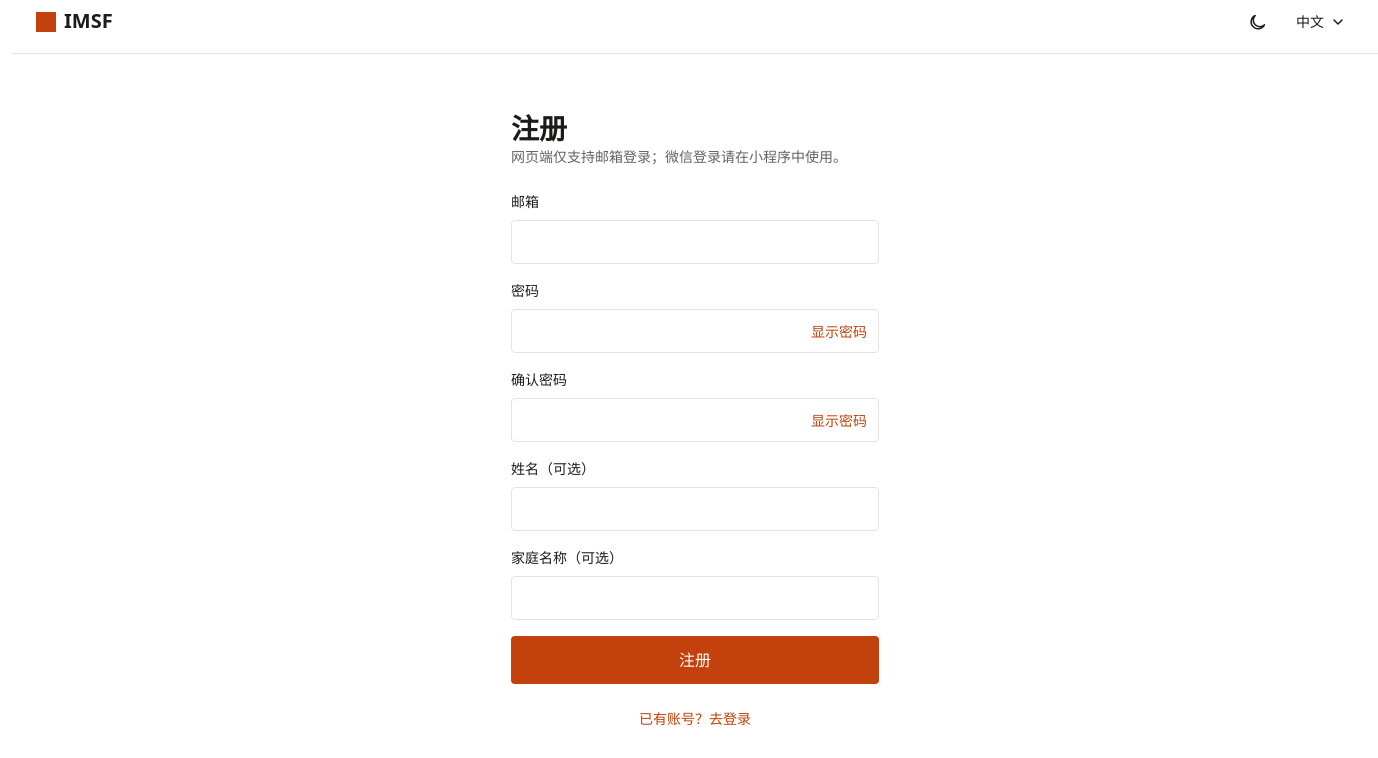
Test: success › navigates to /app on success and sends the name but never the confirm password
The image size is (1378, 758).
Type "a@b.c" into the field labelled "邮箱" at (695, 242), box [511,220,879,264]
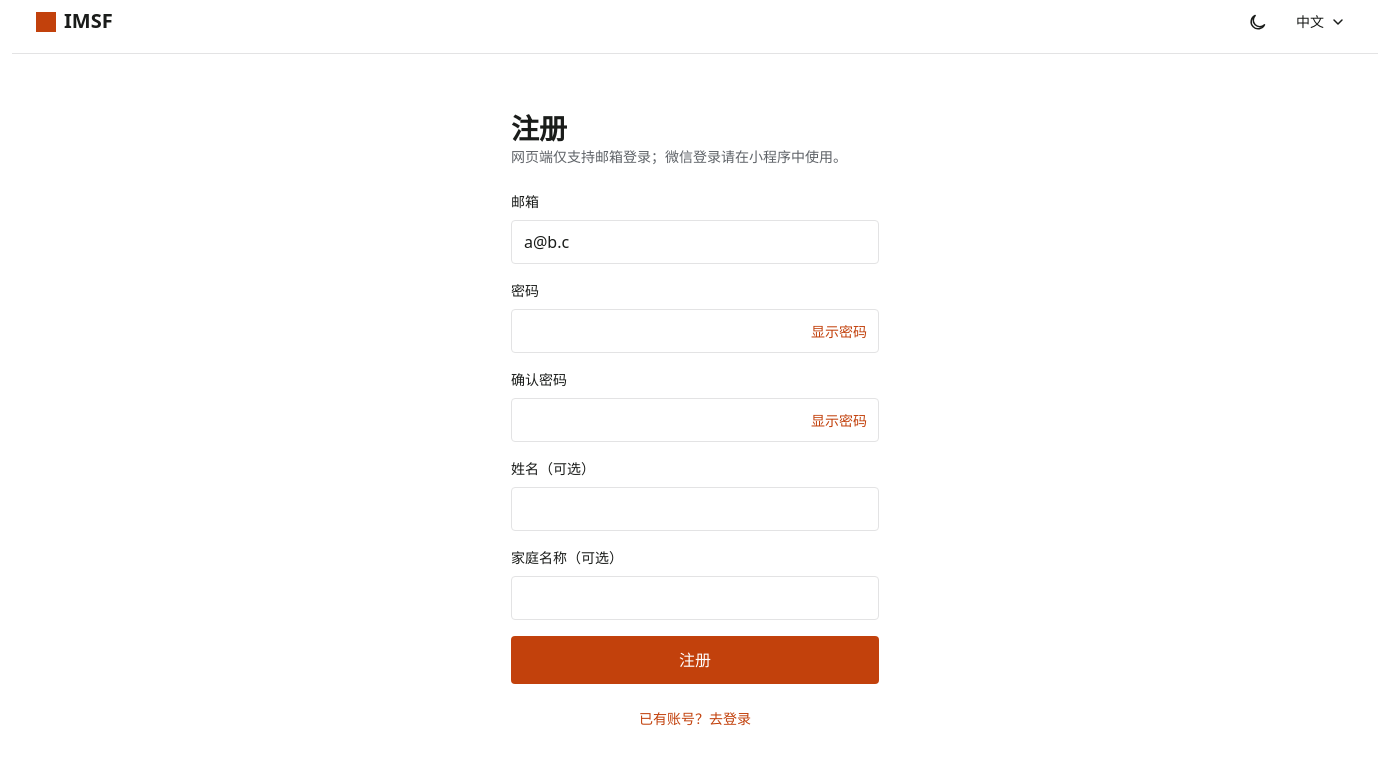
Type "longenough" into the password field labelled "密码" at (695, 331), box [511,309,879,353]
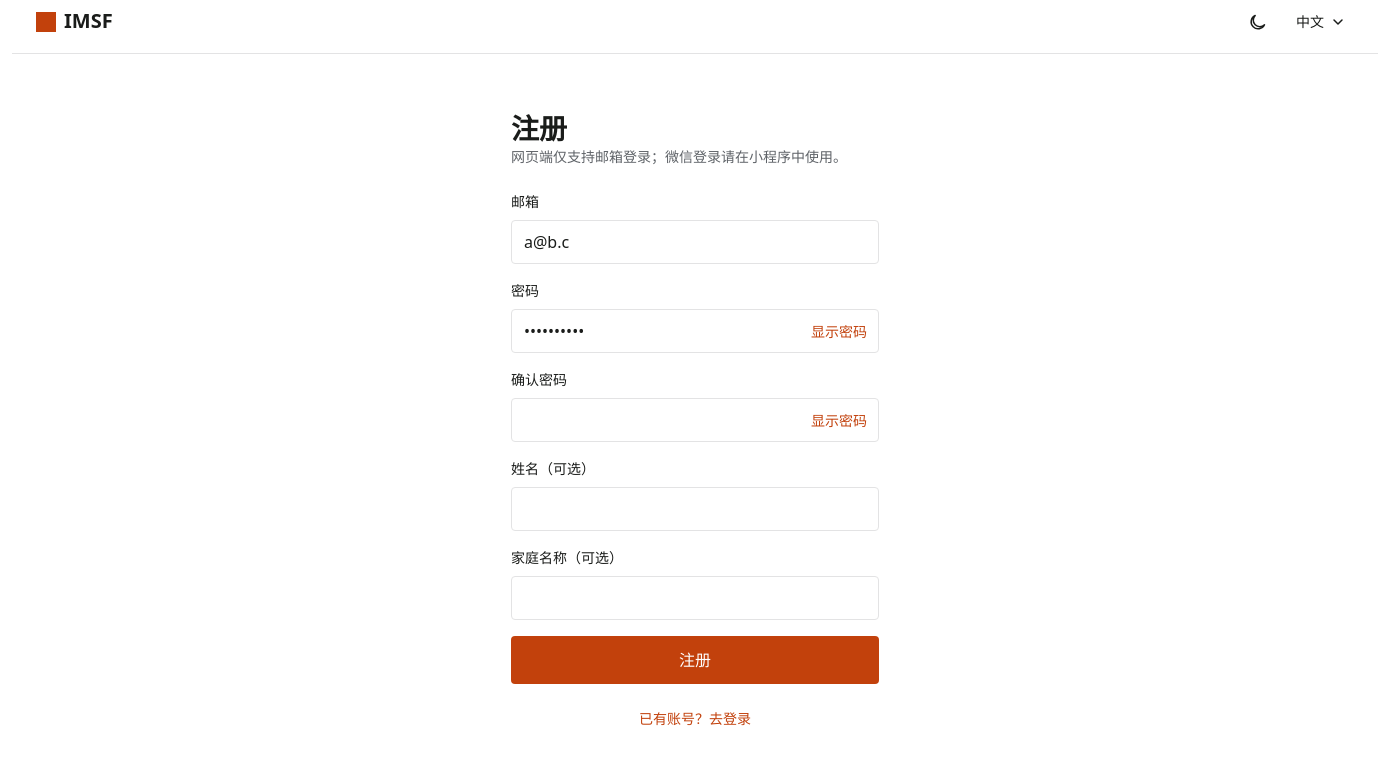
Type "longenough" into the password field labelled "确认密码" at (695, 420), box [511,398,879,442]
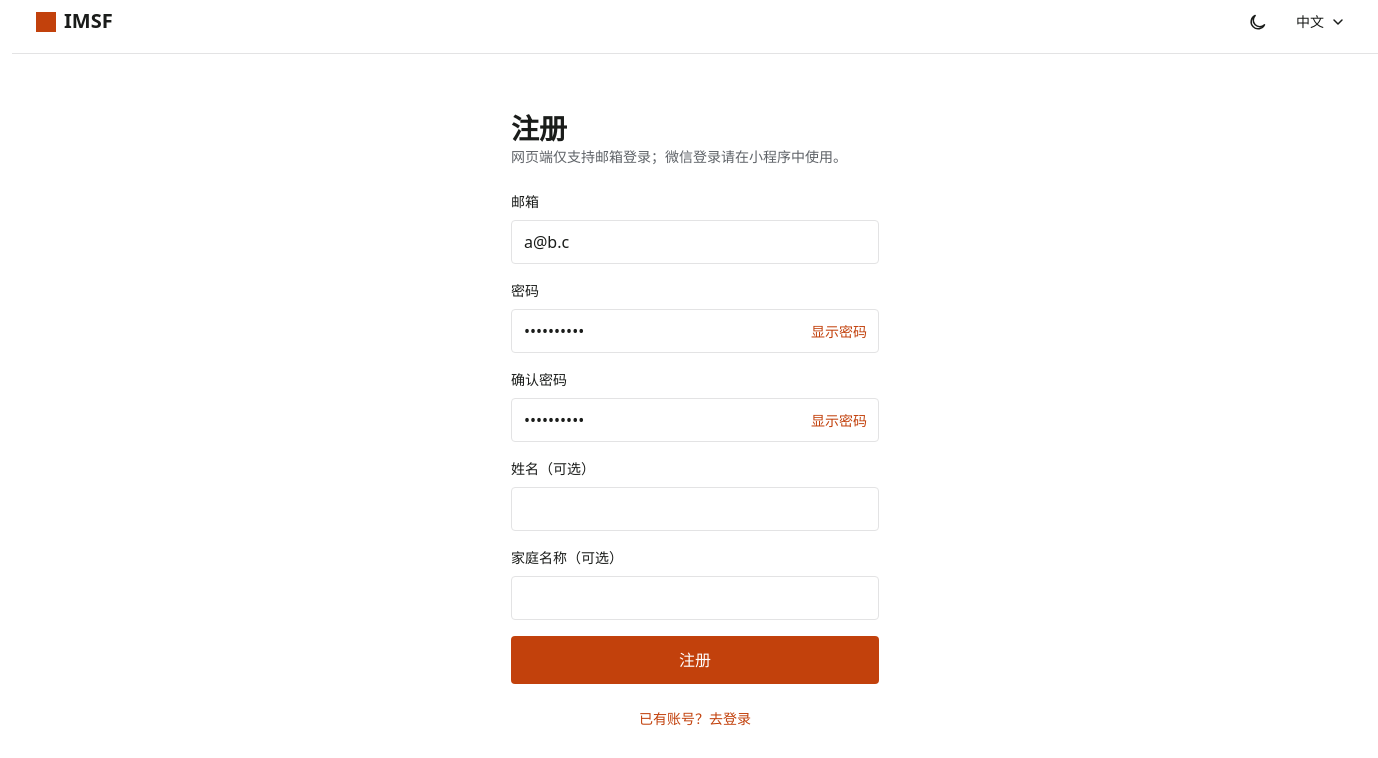
Type "小明" into the field labelled "姓名（可选）" at (695, 509), box [511,487,879,531]
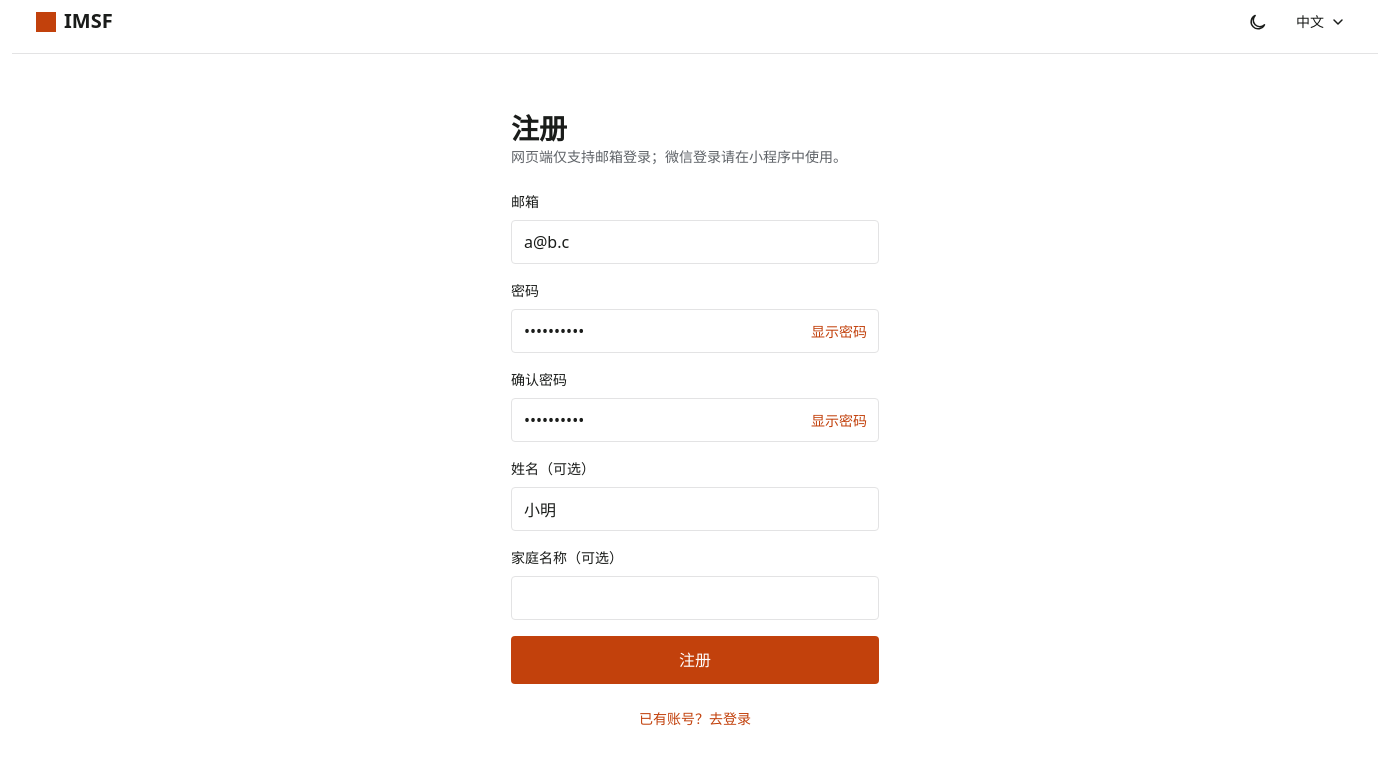
Click the button "注册" at (695, 660), box [511,636,879,684]
(page scrolled)
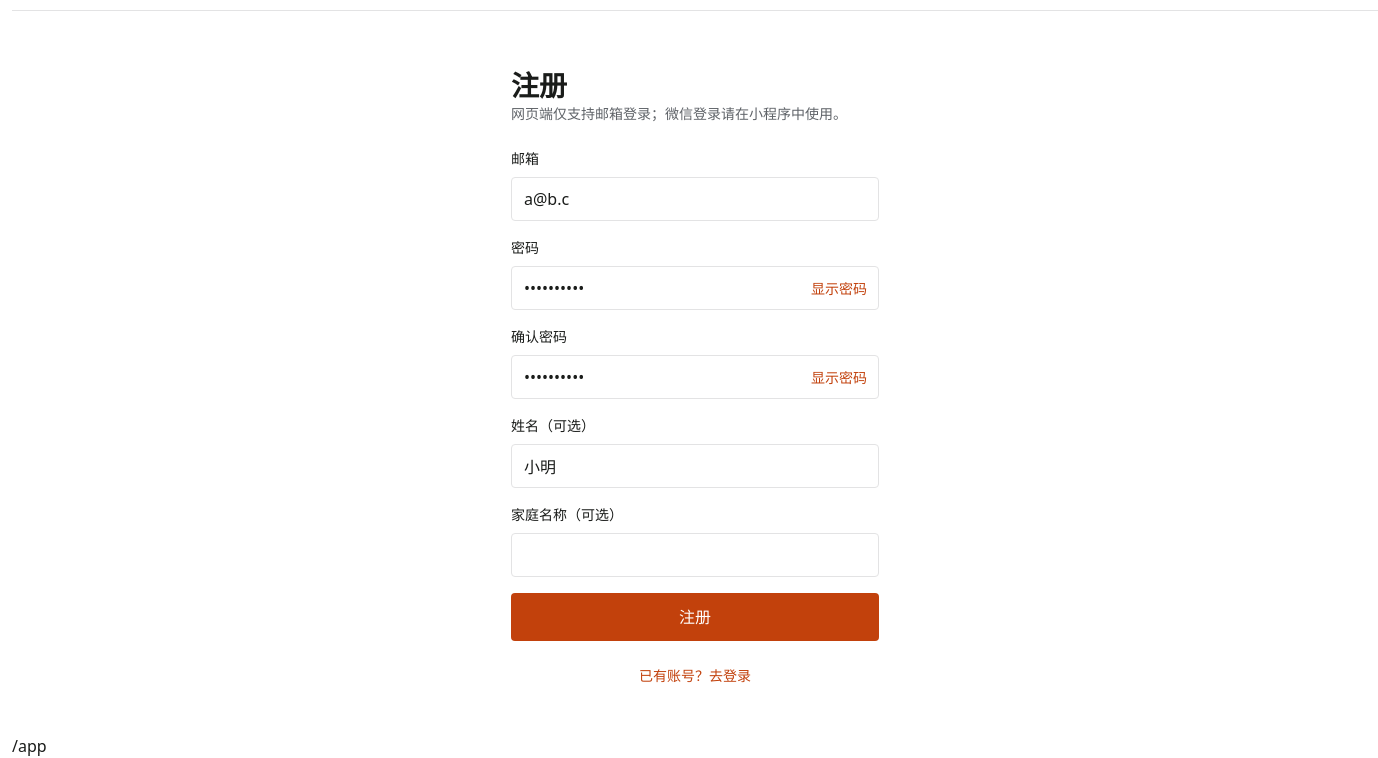
Result: the text with test id "location" reads "/app" at [12,735,47,757]
